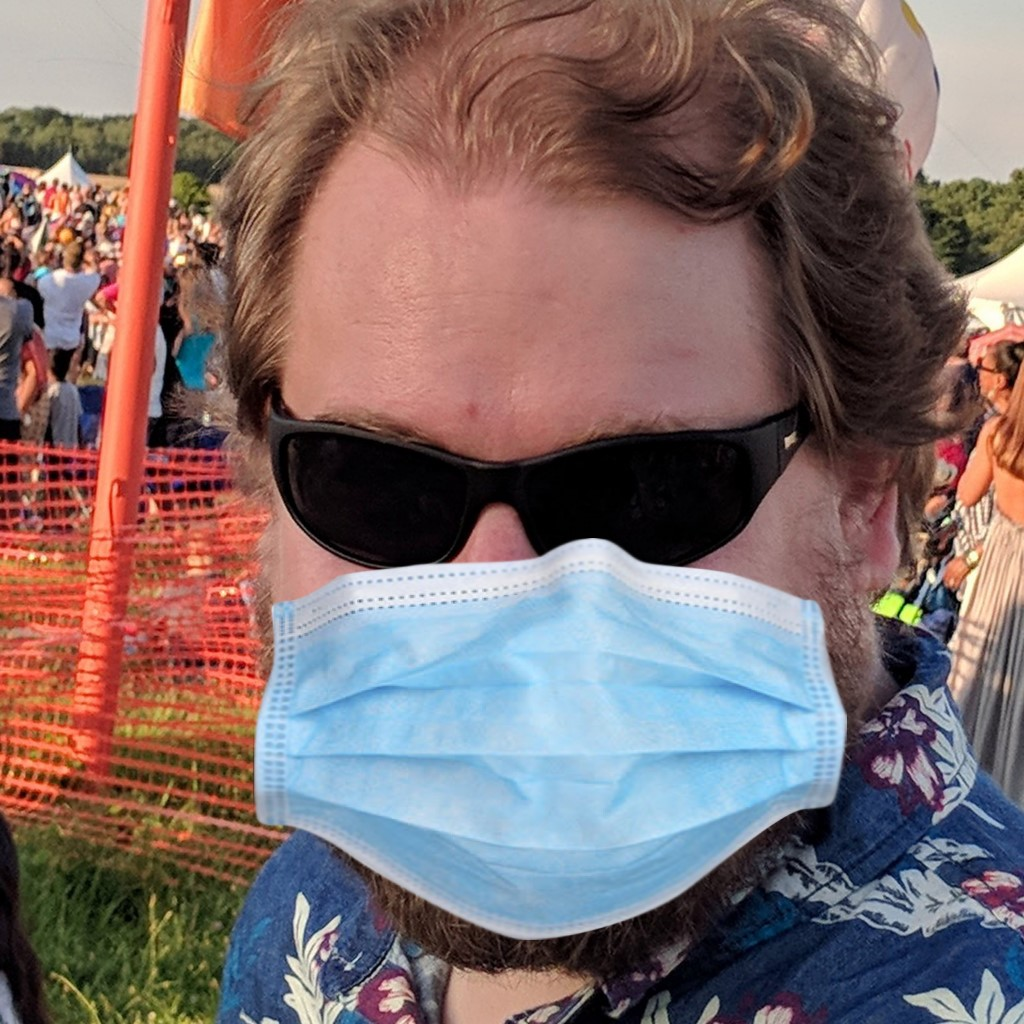con_mascara: (239, 105, 862, 954)
